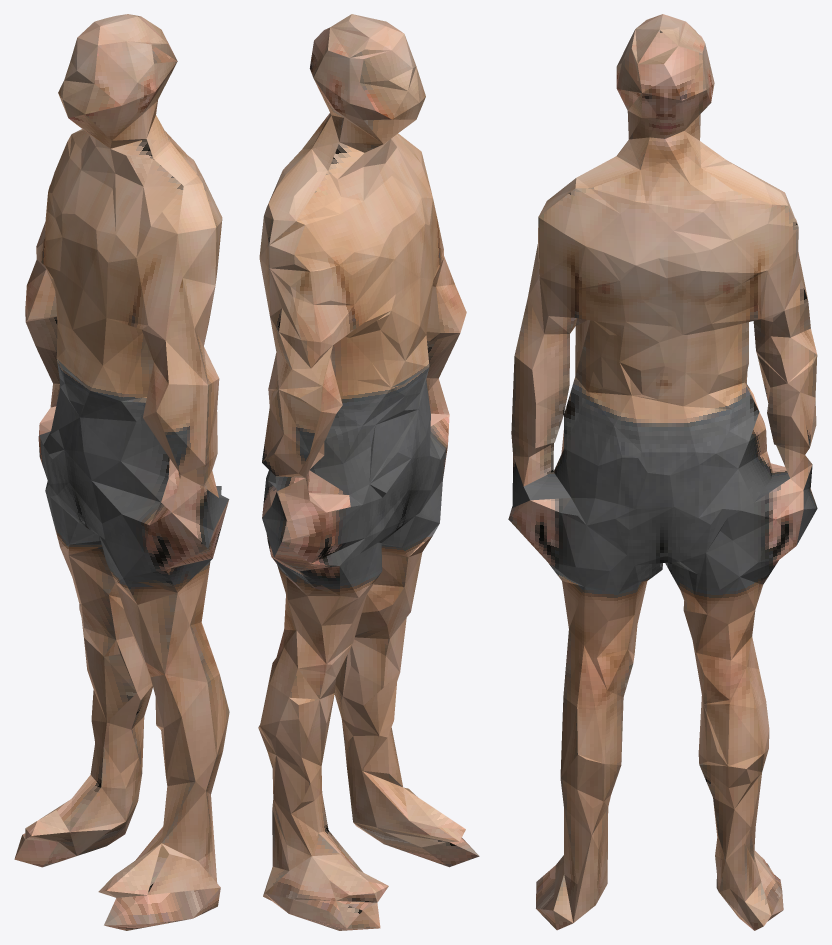
File: hombre_5.glb
The picture shows the model from 3 angles, left to right: view 1: azimuth 30°, elevation 25°; view 2: azimuth 150°, elevation 25°; view 3: azimuth 270°, elevation 25°; orthographic projection. The views are drawn at different scales.
Visible parts, largest first — view 1: personaje.base.cuerpo_comun; view 2: personaje.base.cuerpo_comun; view 3: personaje.base.cuerpo_comun.
Part boxes in pixels (x1,y1,x2,y2): personaje.base.cuerpo_comun: (14, 14, 229, 930); personaje.base.cuerpo_comun: (258, 14, 479, 930); personaje.base.cuerpo_comun: (508, 14, 817, 930).
Bounding box in the file's own units: 0.29 × 1.7 × 0.5327.
1 material, 1 textured.
